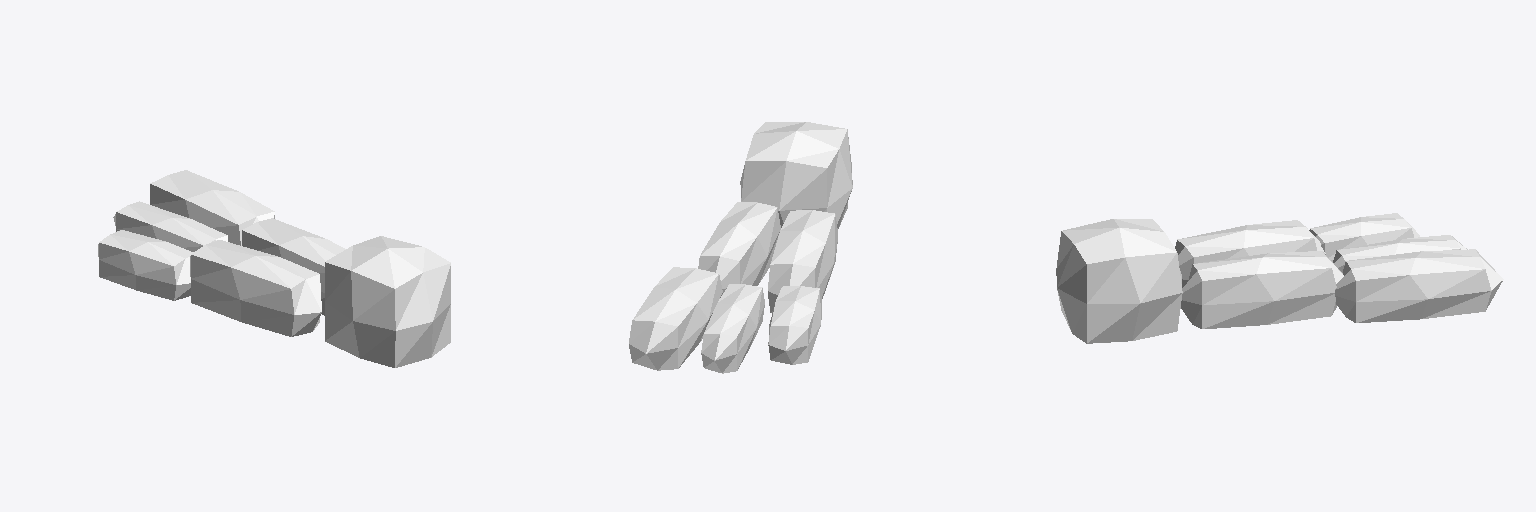
The model's file is pirate_left_foot.obj.
3 views of the same model, side by side, from view 1: azimuth 30°, elevation 25°; view 2: azimuth 150°, elevation 25°; view 3: azimuth 270°, elevation 25° (orthographic).
Visible parts, largest first — view 1: Box14; view 2: Box14; view 3: Box14.
Part boxes in pixels (x1,y1,x2,y2): Box14: (98,170,450,367); Box14: (629,122,852,373); Box14: (1056,213,1503,343).
Bounding box in the file's own units: 4.24 × 2.2 × 8.32.